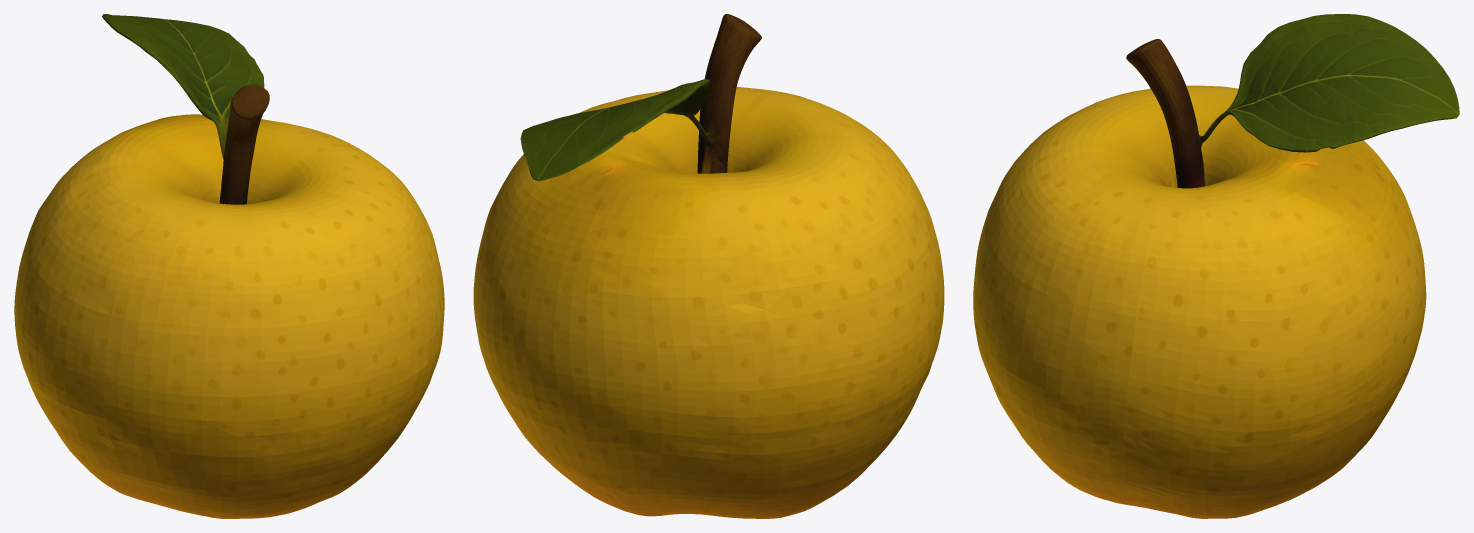
File: manzana_limona.glb
The picture shows the model from 3 angles, left to right: view 1: azimuth 30°, elevation 25°; view 2: azimuth 150°, elevation 25°; view 3: azimuth 270°, elevation 25°; orthographic projection. The views are drawn at different scales.
Visible parts, largest first — view 1: tripo_node_0fb2b5ec-e625-479d-9dea-7c8446ef558c; view 2: tripo_node_0fb2b5ec-e625-479d-9dea-7c8446ef558c; view 3: tripo_node_0fb2b5ec-e625-479d-9dea-7c8446ef558c.
Boxes of the visible parts, left/top/right/bottom form: tripo_node_0fb2b5ec-e625-479d-9dea-7c8446ef558c: left=14, top=14, right=444, bottom=518; tripo_node_0fb2b5ec-e625-479d-9dea-7c8446ef558c: left=473, top=14, right=944, bottom=518; tripo_node_0fb2b5ec-e625-479d-9dea-7c8446ef558c: left=973, top=14, right=1459, bottom=518.
Size of the model in its own units: 0.9442 by 0.9971 by 0.9988.
Materials: 1 (1 with a texture image).
